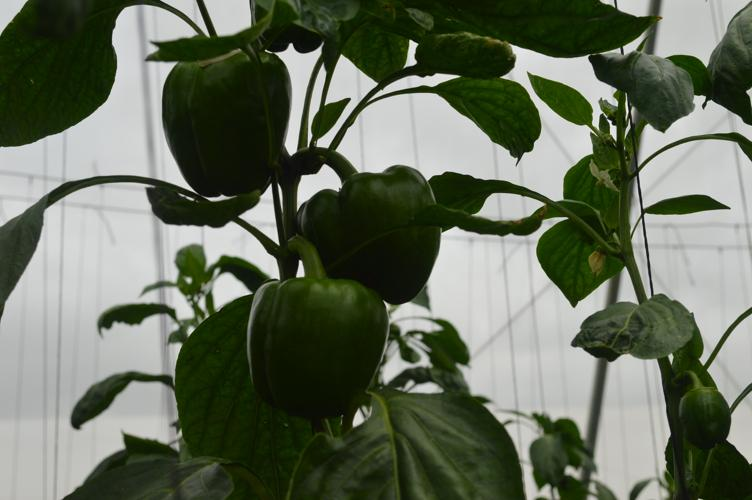BellPepper: (243, 279, 386, 416), (299, 166, 439, 297), (160, 55, 290, 193), (673, 385, 729, 450)
